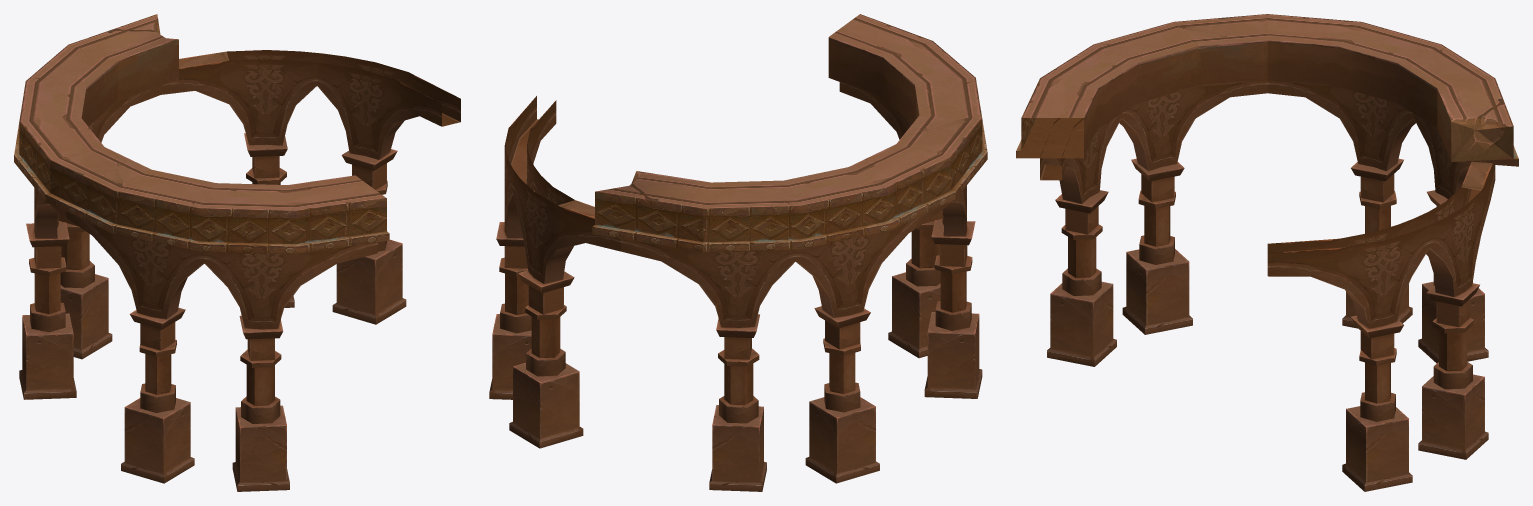
Rendered from guchengqishituan_BOSS_C_01_b.FBX.
The picture shows the model from 3 angles, left to right: view 1: azimuth 30°, elevation 25°; view 2: azimuth 150°, elevation 25°; view 3: azimuth 270°, elevation 25°; orthographic projection.
Visible parts, largest first — view 1: guchengqishituan_BOSS_C_01_b; view 2: guchengqishituan_BOSS_C_01_b; view 3: guchengqishituan_BOSS_C_01_b.
Boxes of the visible parts, x1,y1,x2,y2 form: guchengqishituan_BOSS_C_01_b: (14,14,460,491); guchengqishituan_BOSS_C_01_b: (489,14,987,491); guchengqishituan_BOSS_C_01_b: (1016,14,1518,491).
Size of the model in its own units: 10.76 by 6.95 by 11.29.
